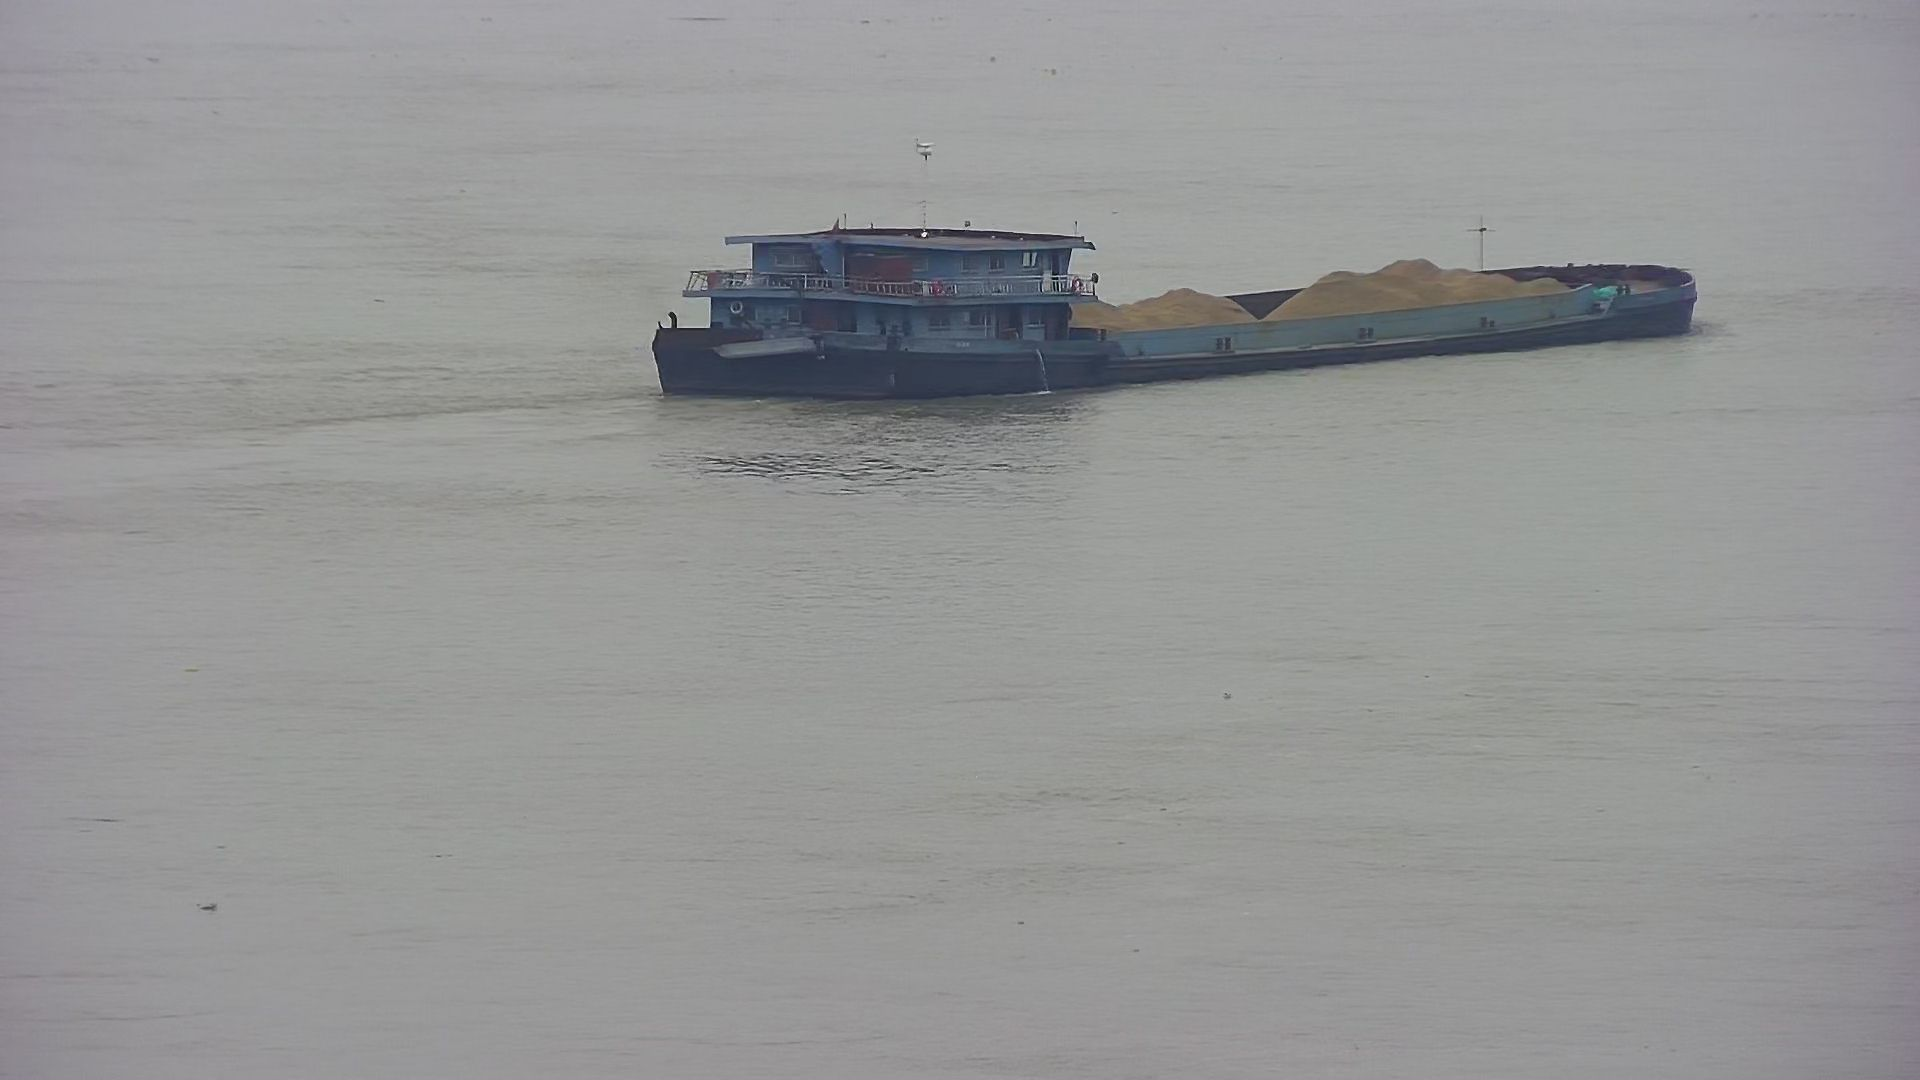ship: (612, 189, 1710, 415)
